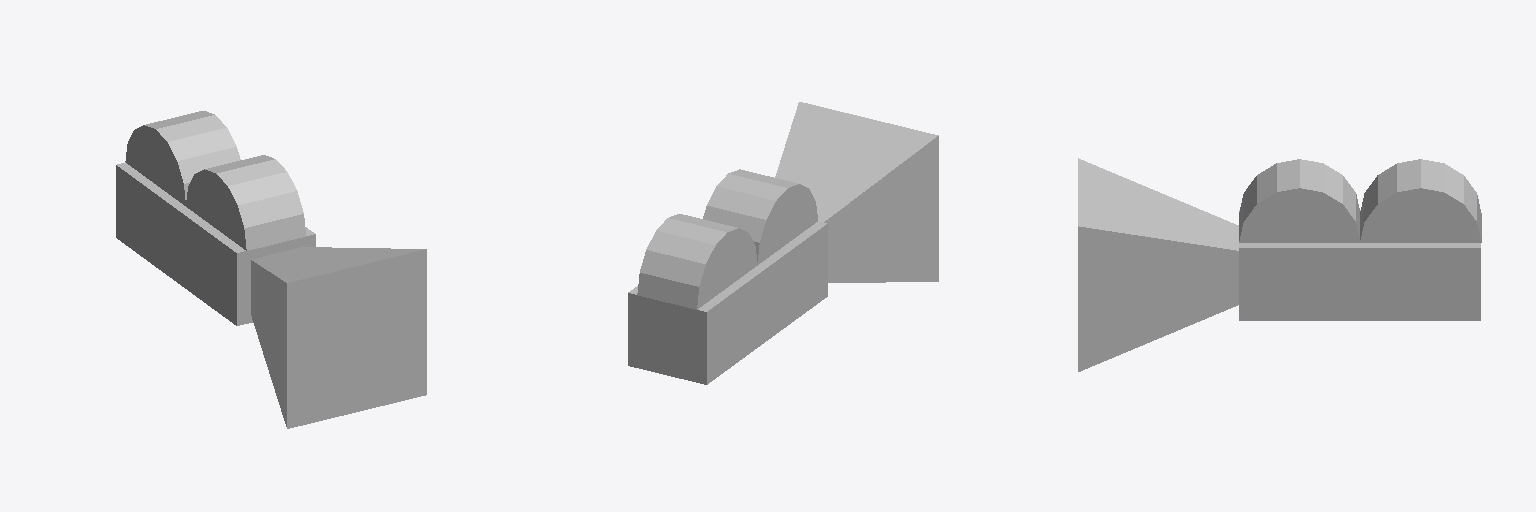
The model's file is camera.obj.
The picture shows the model from 3 angles: view 1: azimuth 30°, elevation 25°; view 2: azimuth 150°, elevation 25°; view 3: azimuth 270°, elevation 25°; orthographic projection.
Visible parts, largest first — view 1: Box001; view 2: Box001; view 3: Box001.
Part boxes in pixels (x1,y1,x2,y2): Box001: (116,111,426,428); Box001: (628,102,938,384); Box001: (1078,158,1481,371).
Bounding box in the file's own units: 20 × 22.56 × 50.06.